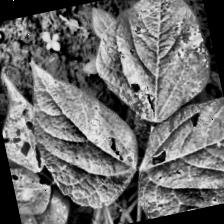ALS: (24, 43, 148, 216), (81, 0, 224, 139), (125, 96, 224, 219), (0, 77, 45, 174), (8, 156, 52, 218)
